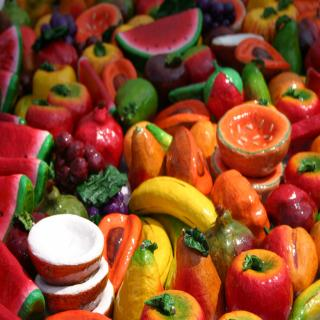Apple: (230, 253, 295, 320), (264, 182, 320, 231), (282, 152, 320, 208), (140, 290, 207, 320), (25, 99, 75, 139), (48, 84, 93, 127), (31, 60, 76, 101), (275, 86, 320, 124), (243, 9, 284, 46), (81, 42, 122, 78), (248, 0, 297, 23), (17, 96, 40, 122)
